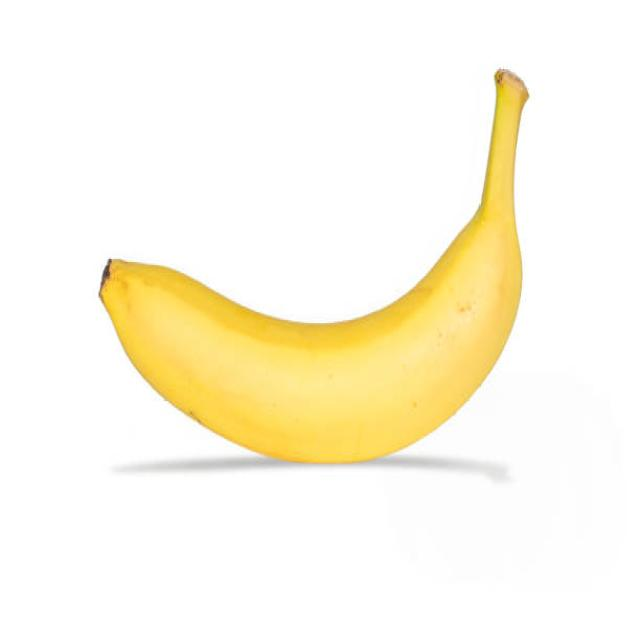Ripe: (94, 66, 531, 469)
